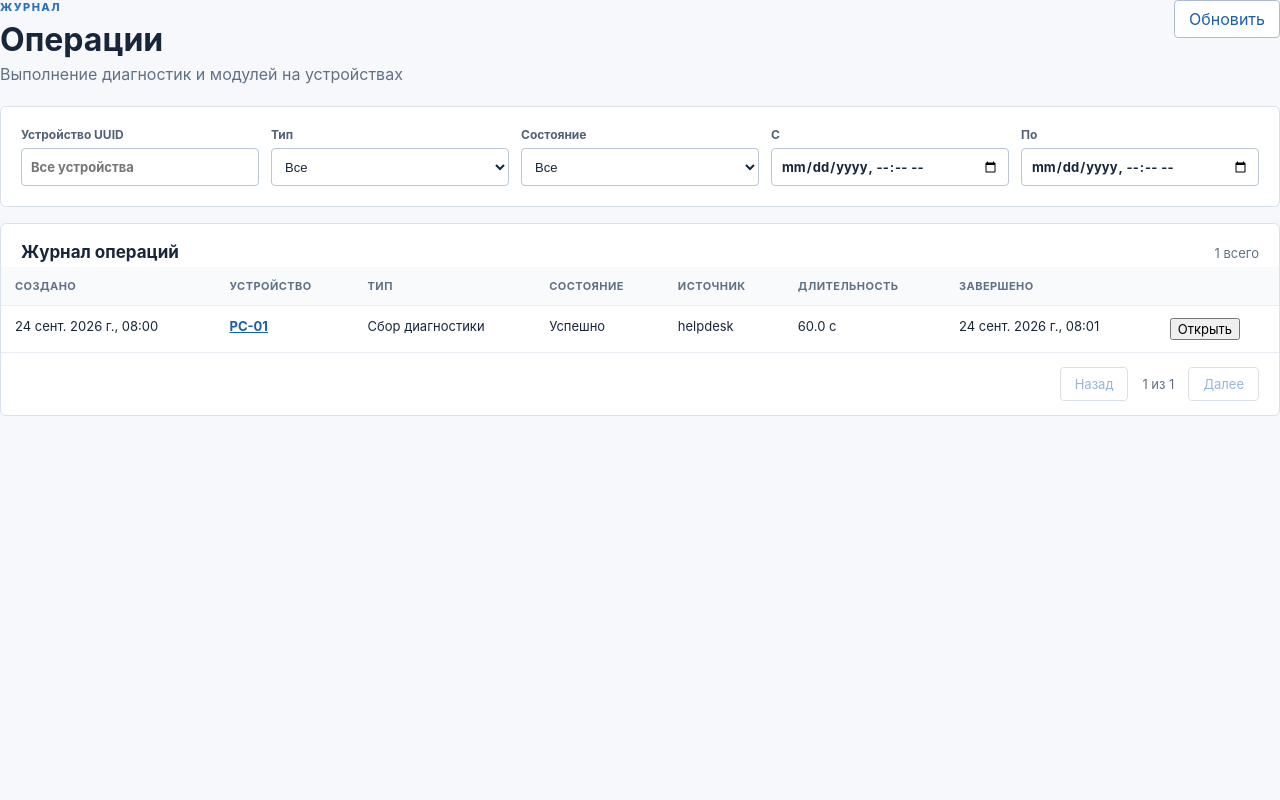
Test: Русский интерфейс Console › закрепляет доступный безопасный результат операции
Click the button "Открыть" at (1205, 329), box [1170,318,1240,340]
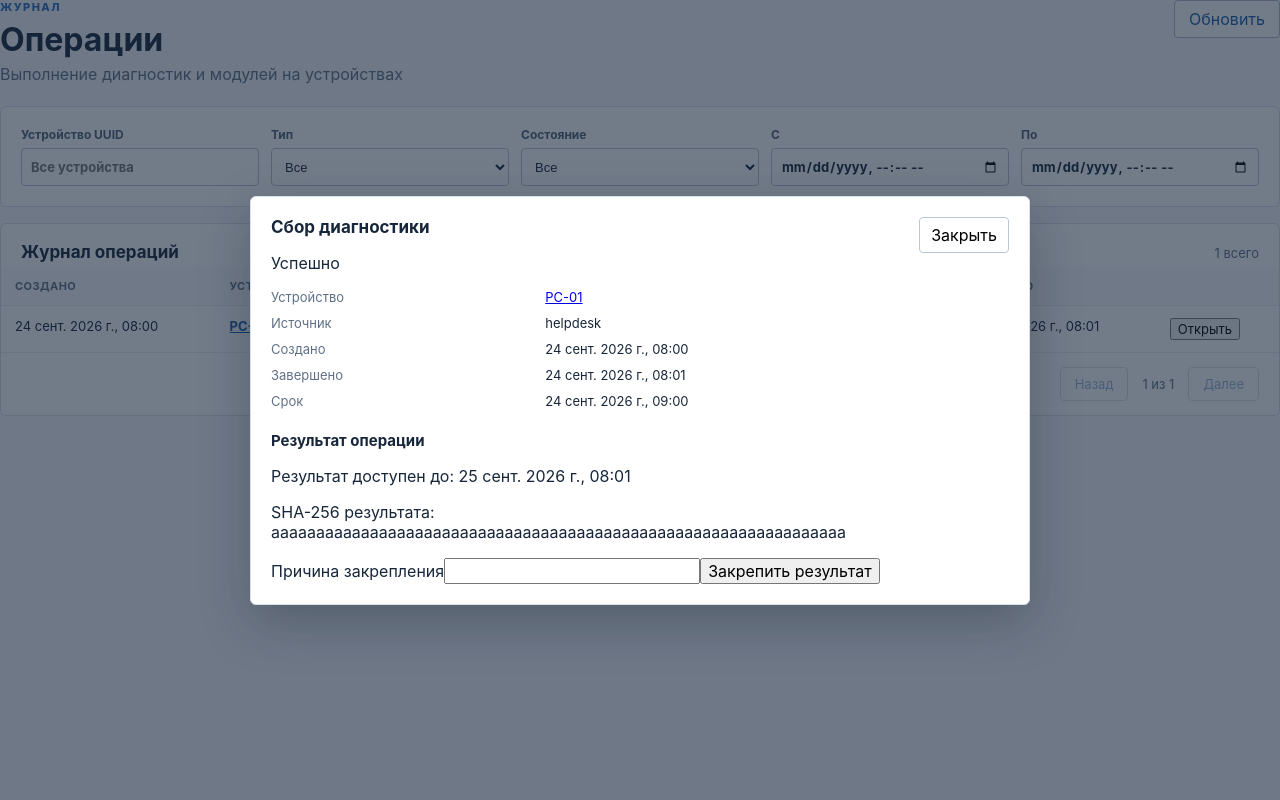
Expected: the text "Результат доступен до" is shown, [271,466,459,486]
Type "Проверка инцидента" into the field labelled "Причина закрепления" at (572, 570), box [444,558,700,584]
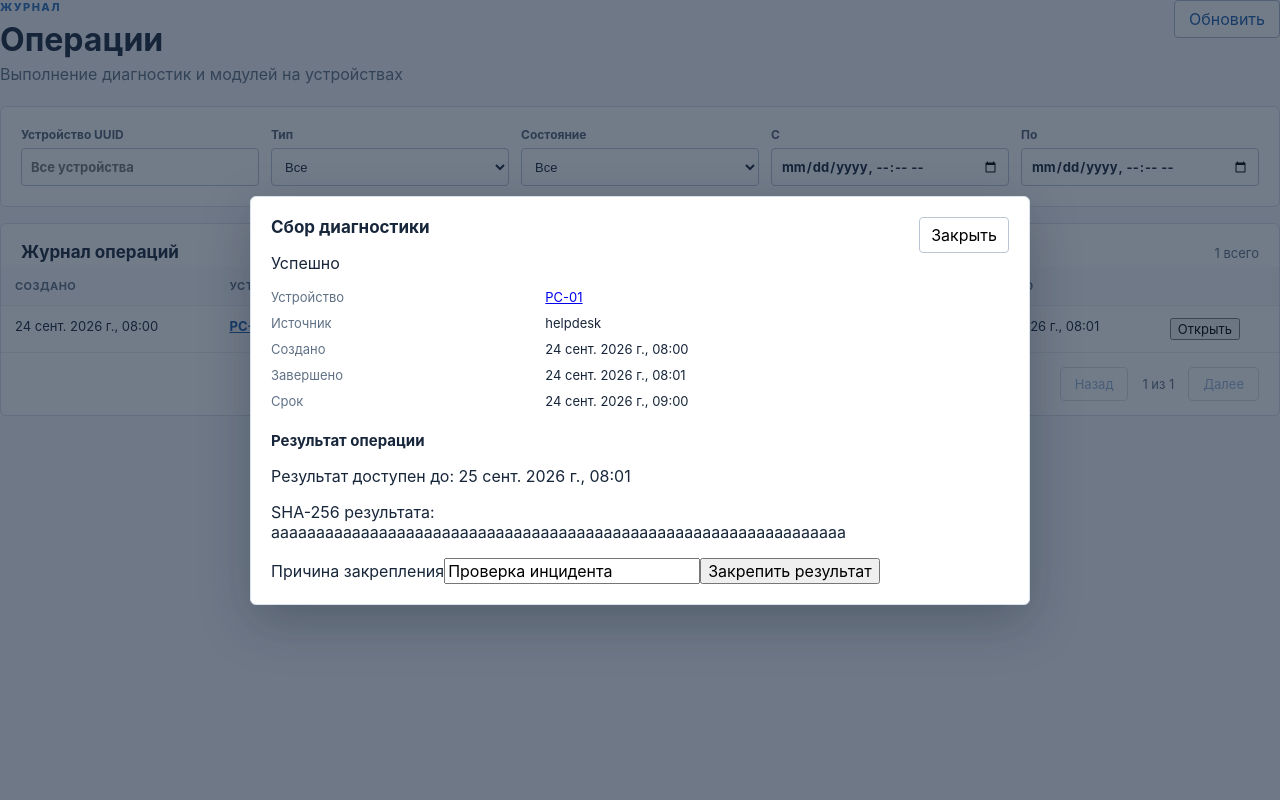
Click the button "Закрепить результат" at (790, 570), box [700,558,880,584]
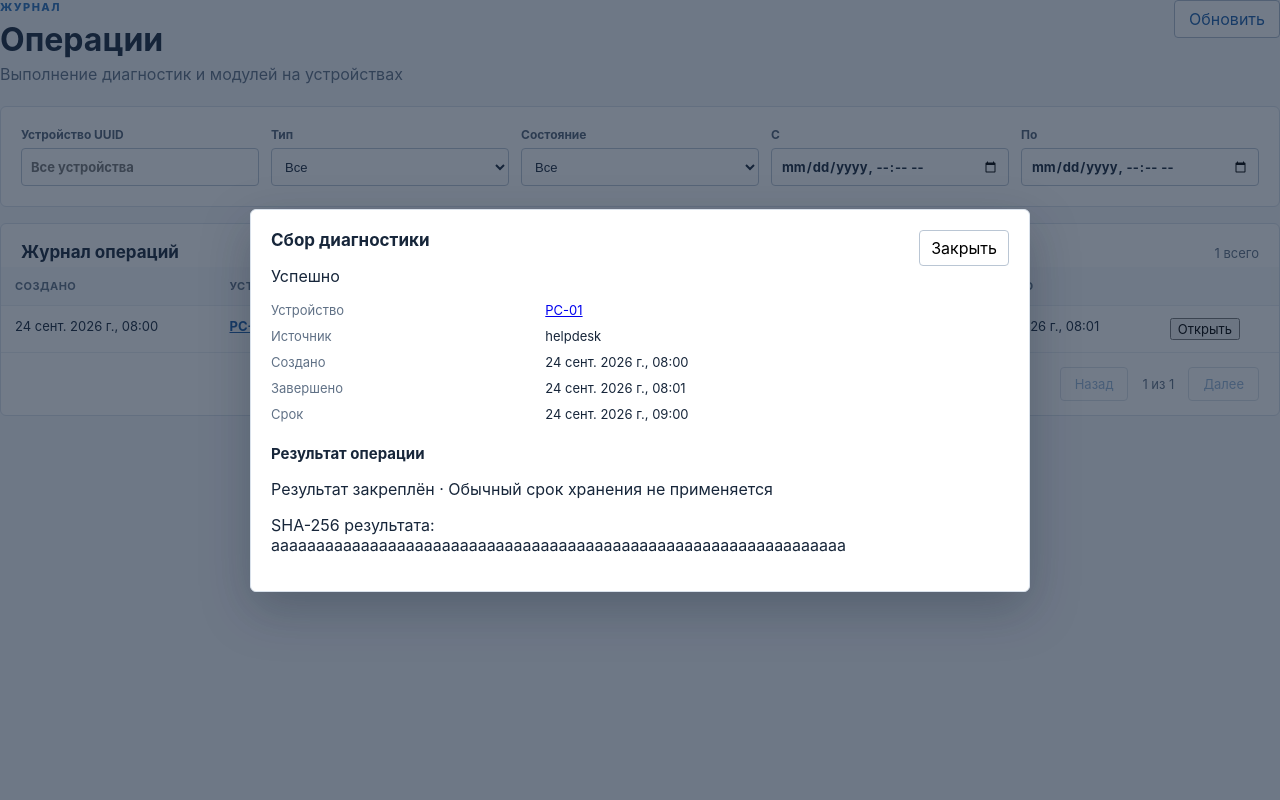
Expected: the text "Результат закреплён · Обычный срок хранения не применяется" is shown, [271,478,773,498]
